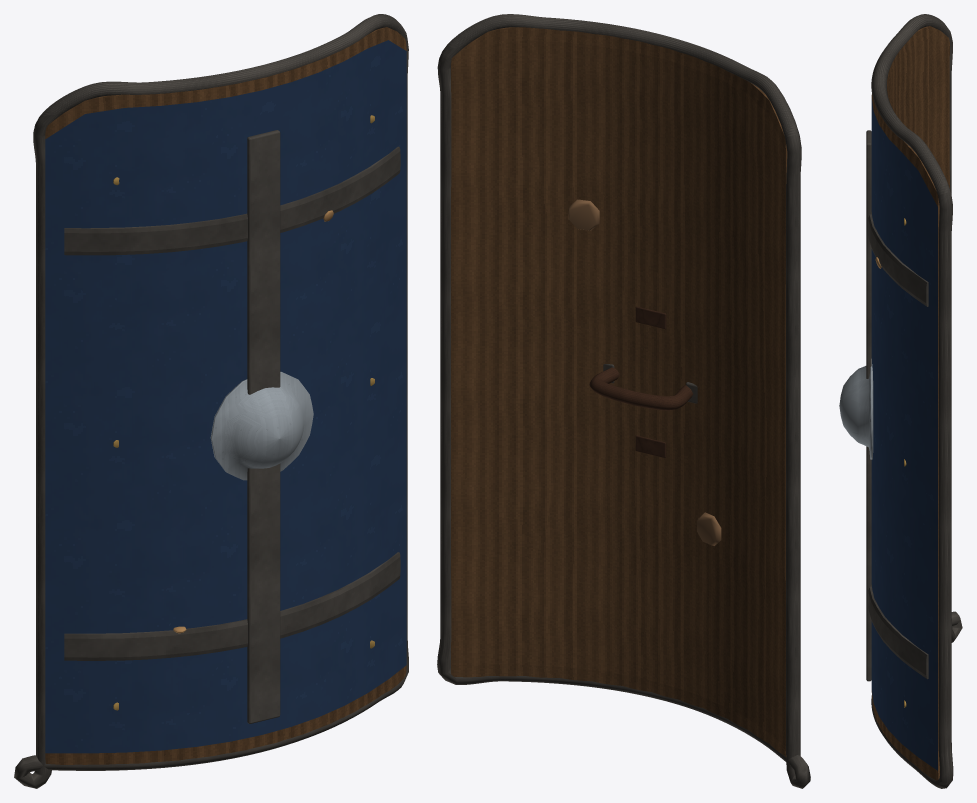
Rendered from tower-shield.lod1.glb.
3 views of the same model, side by side, from view 1: azimuth 30°, elevation 25°; view 2: azimuth 150°, elevation 25°; view 3: azimuth 270°, elevation 25° (orthographic). The views are drawn at different scales.
Visible parts, largest first — view 1: ceramic / ceramic composite panel, iron / hammer-scaled wrought iron, wood / oiled hardwood, steel / forged blade steel; view 2: wood / oiled hardwood, iron / hammer-scaled wrought iron, leather / oiled leather wrap, drawbore peg; view 3: ceramic / ceramic composite panel, iron / hammer-scaled wrought iron, wood / oiled hardwood, steel / forged blade steel.
Part boxes in pixels (<box>): ceramic / ceramic composite panel: <box>45,40,406,753</box>; iron / hammer-scaled wrought iron: <box>14,14,408,788</box>; wood / oiled hardwood: <box>45,27,406,764</box>; steel / forged blade steel: <box>210,371,313,480</box>; wood / oiled hardwood: <box>451,27,787,756</box>; iron / hammer-scaled wrought iron: <box>437,14,810,788</box>; leather / oiled leather wrap: <box>589,306,693,458</box>; drawbore peg: <box>568,199,721,545</box>; ceramic / ceramic composite panel: <box>871,99,937,770</box>; iron / hammer-scaled wrought iron: <box>866,14,962,788</box>; wood / oiled hardwood: <box>871,26,949,780</box>; steel / forged blade steel: <box>839,359,873,459</box>.
Size of the model in its own units: 0.6091 by 1.06 by 0.183.
8 materials, 6 textured.
